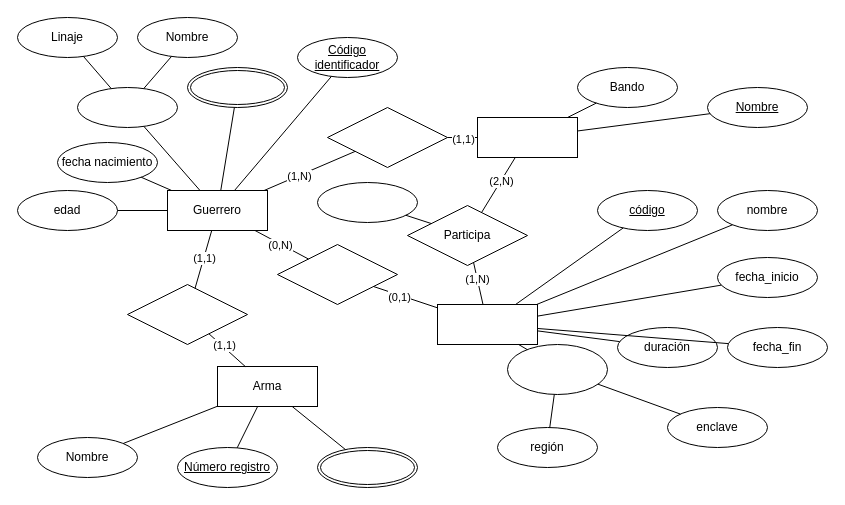
This 845x505 diagram has some shape labels left out. The shapes that lost their labels are listed below. From the top down, each one's centre as x and y in pixels, then its label:
At point (127, 107): "Nombre Completo".
At point (237, 87): "Apodos".
At point (387, 137): "Pertenece".
At point (527, 137): "Ejercito".
At point (367, 202): "número de bajas".
At point (337, 274): "Cae".
At point (187, 314): "Porta".
At point (487, 324): "Batalla".
At point (557, 369): "Lugar".
At point (367, 467): "Forja".
